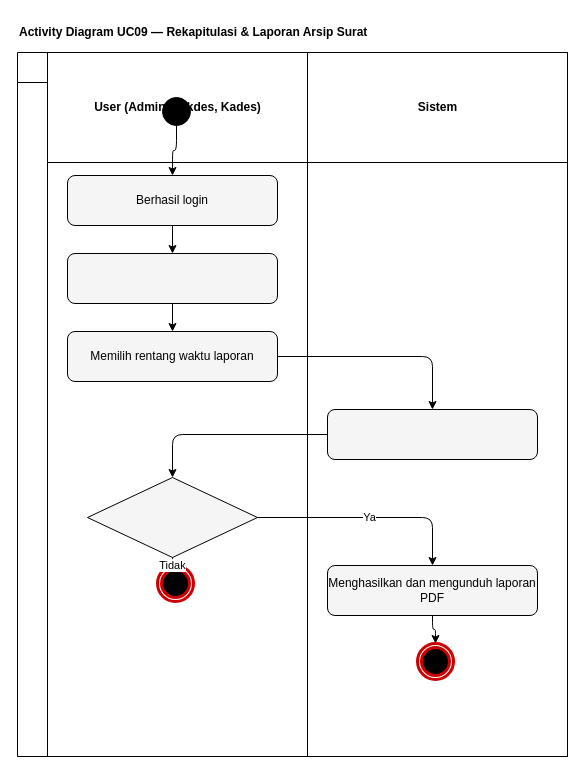
The diagram is 585 pixels wide and 774 high, and some of its shapes have lost their labels. Here are the shapes that lost their labels. From the top down, the box of each, then its label:
(66, 252, 278, 304): Mengakses menu Laporan
(326, 408, 538, 460): Menampilkan statistik dan grafik rekapitulasi
(86, 476, 258, 558): Export PDF?
